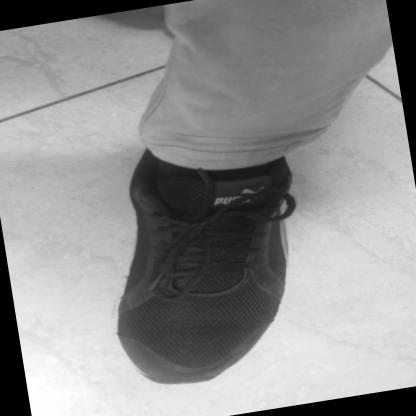ankle: (207, 180, 214, 185)
heel: (145, 155, 152, 160)
left_foot: (90, 126, 323, 396)
pinky: (258, 329, 266, 334)
toe: (129, 355, 138, 360)
